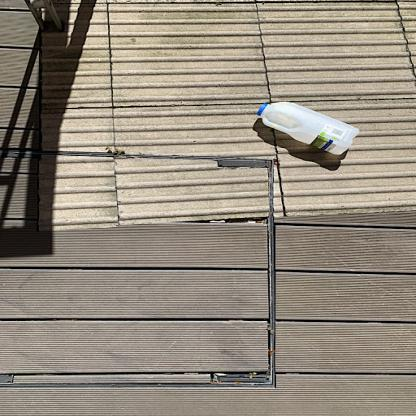trash: (254, 99, 359, 160)
